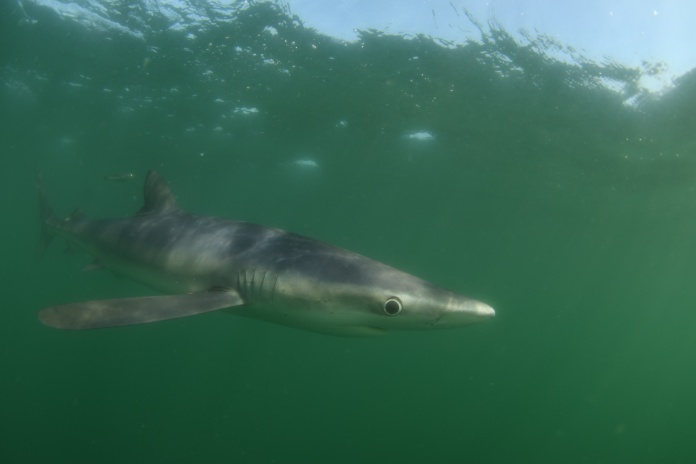Azul: (29, 159, 504, 357)
